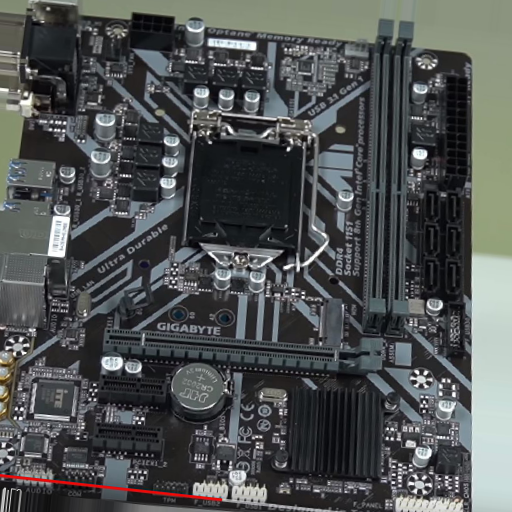CPU: (178, 109, 320, 276)
GPU: (100, 326, 382, 376)
MOTHERBOARD: (3, 3, 477, 510)
RAM: (359, 19, 415, 327)
SSD: (317, 297, 344, 347)
